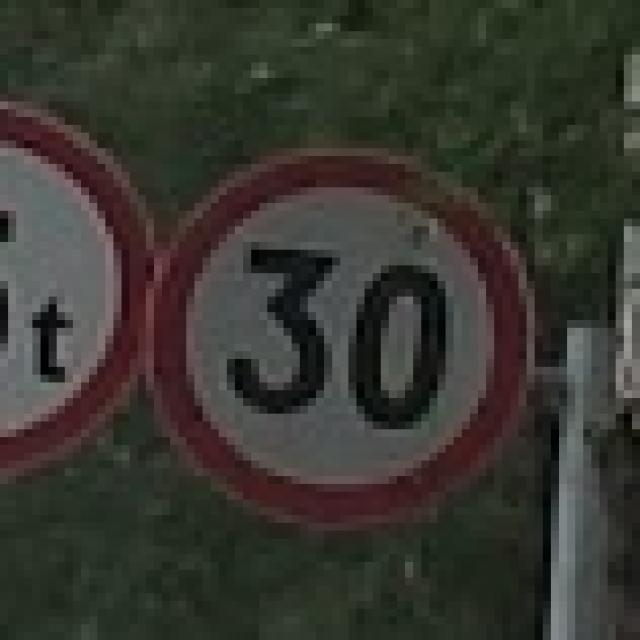Speed Limit -30-: (224, 240, 456, 434)
